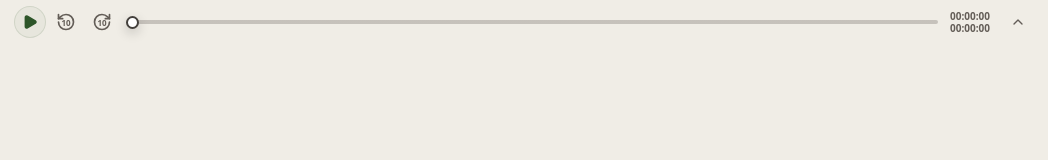
Test: AudioPlayer › folds speed and the audio menu behind one button on a phone, keeping play and seeking
Check: the button named "Avvia riproduzione" is shown, box [14,6,46,38]
Check: the button named "Indietro di 10 secondi" is shown, box [50,6,82,38]
Click the button named "Mostra altri controlli audio" at (1018, 22), box [1002,6,1034,38]
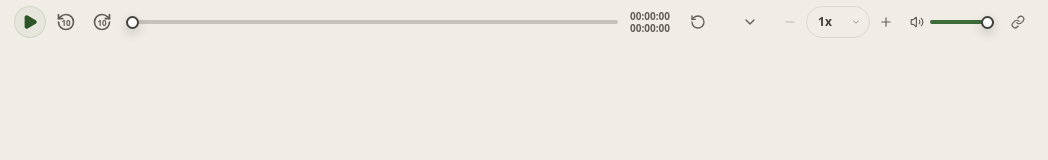
Check: the element named "Velocita di riproduzione" is shown, box [774,6,902,38]
Check: the button named "Opzioni audio collegato" is shown, box [1002,6,1034,38]
Check: the button named "Nascondi altri controlli audio" is expanded, box [734,6,766,38]
